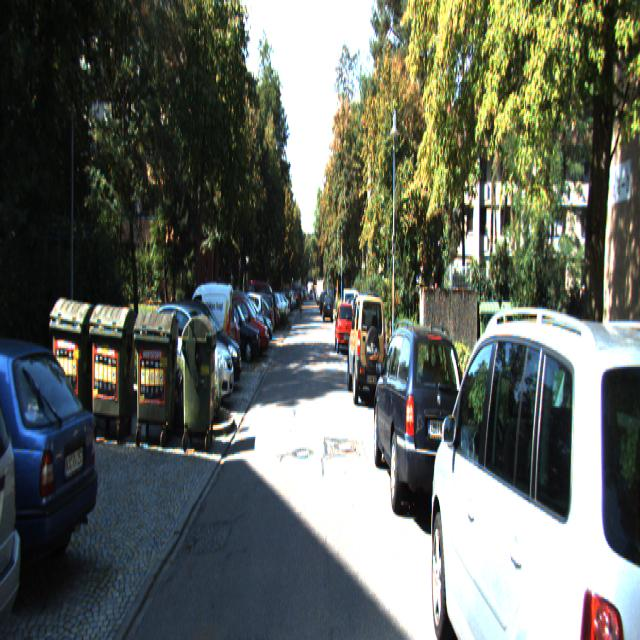Car: (426, 278, 640, 638), (0, 330, 102, 614), (373, 317, 473, 518), (139, 303, 235, 416), (174, 280, 236, 389), (348, 293, 388, 405), (211, 302, 261, 367), (248, 278, 282, 331), (334, 300, 355, 355), (322, 294, 333, 322)
